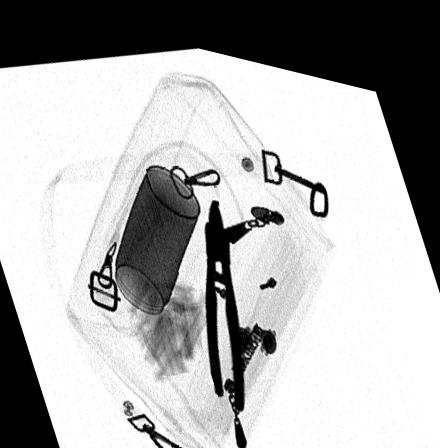Pliers: (202, 185, 246, 403)
